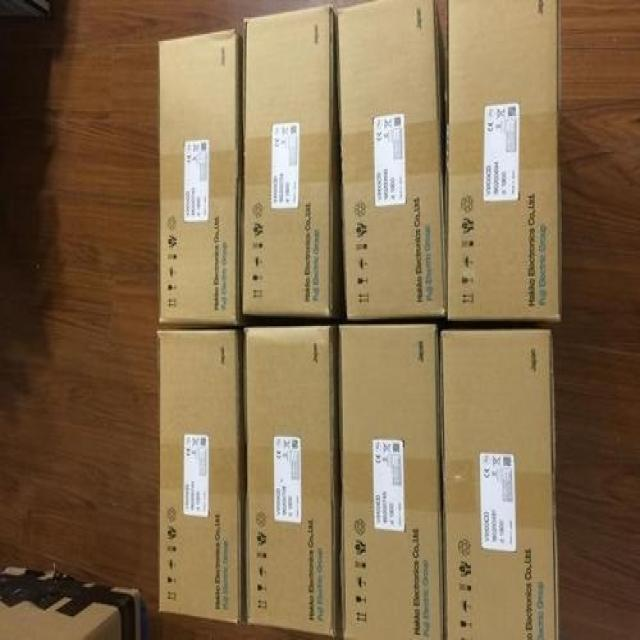box: (440, 314, 559, 638), (447, 1, 561, 321), (339, 315, 444, 638), (240, 6, 347, 319), (240, 315, 344, 637), (156, 328, 245, 627), (158, 31, 244, 327)
